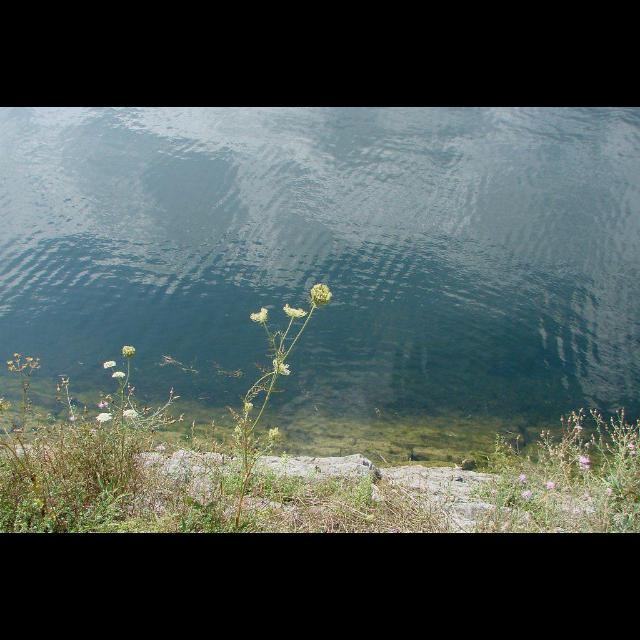Flower: (302, 278, 338, 312), (274, 358, 290, 374), (251, 308, 267, 322), (95, 411, 111, 423), (122, 344, 136, 356), (285, 306, 305, 314), (122, 406, 134, 419), (114, 371, 126, 379), (522, 489, 532, 498), (580, 455, 588, 465), (105, 362, 114, 370), (547, 481, 555, 489), (521, 476, 525, 482)
